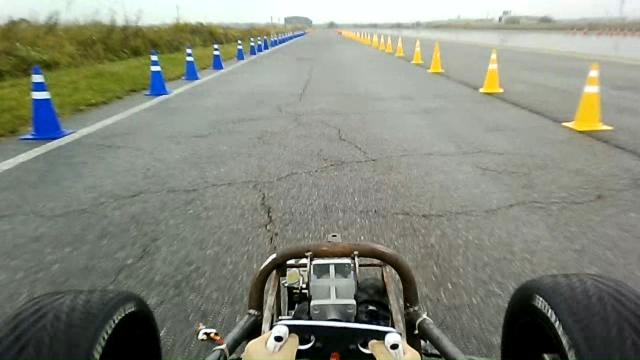blue cone: (18, 64, 75, 141), (143, 50, 171, 96), (181, 44, 200, 80), (211, 43, 224, 70), (235, 39, 245, 60), (249, 36, 257, 55)
yellow cone: (561, 62, 614, 132), (479, 48, 504, 93), (427, 41, 445, 73), (411, 38, 424, 64), (394, 36, 404, 57), (385, 35, 393, 53)
